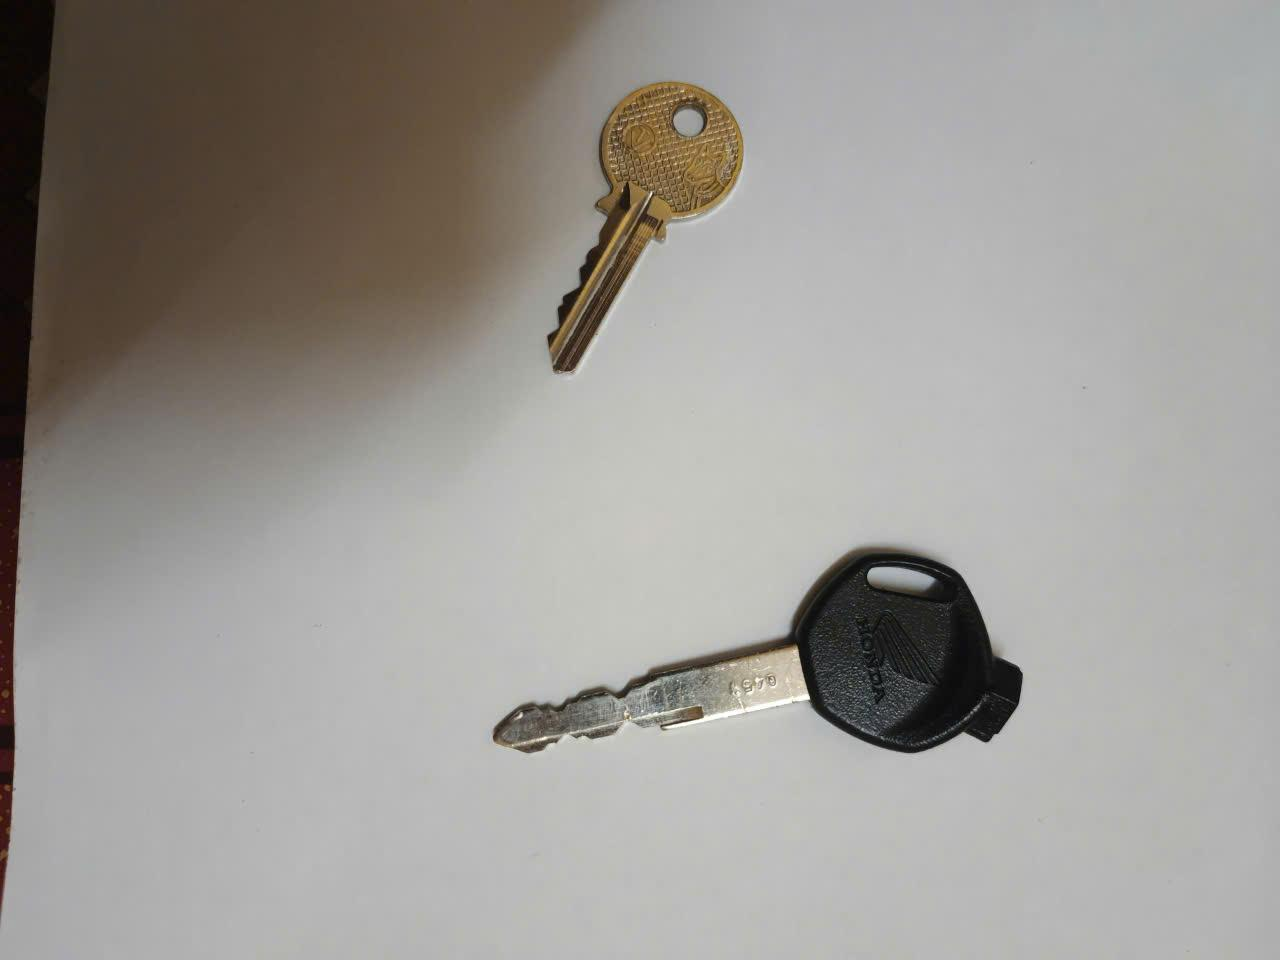Vo co: (492, 542, 1026, 756), (544, 84, 741, 372)
